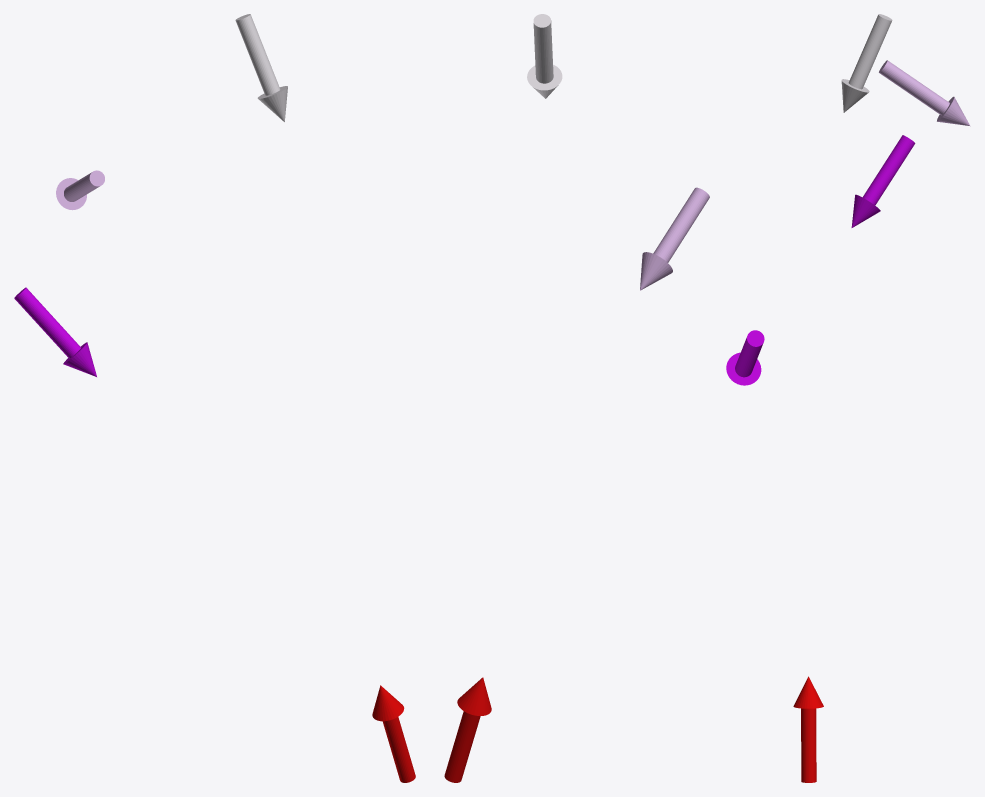
The model's file is opt_res.glb.
3 renders of one model, left to right at view 1: azimuth 30°, elevation 25°; view 2: azimuth 150°, elevation 25°; view 3: azimuth 270°, elevation 25°, orthographic. The views are drawn at different scales.
Visible parts, largest first — view 1: world; view 2: world; view 3: world.
Part boxes in pixels (x1,y1,x2,y2): world: (14, 14, 415, 782); world: (444, 14, 764, 782); world: (793, 14, 970, 782).
Bounding box in the file's own units: 0.0977 × 0.2062 × 0.0464.
